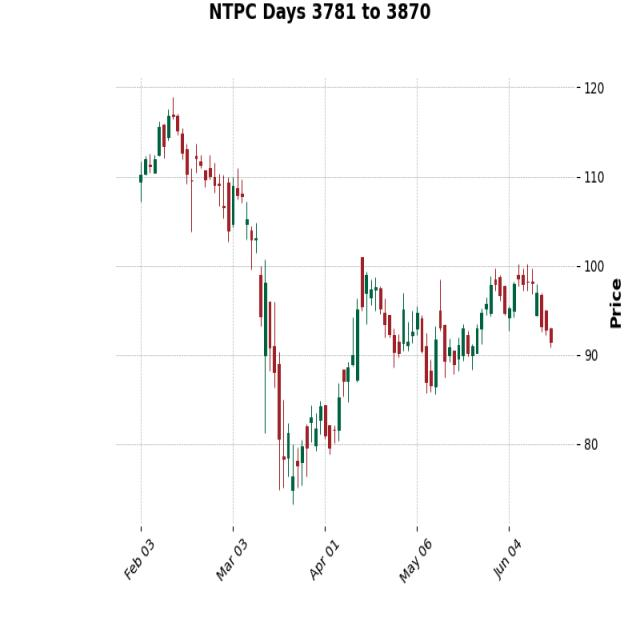Symmetric Triangle: (339, 234, 474, 430)
